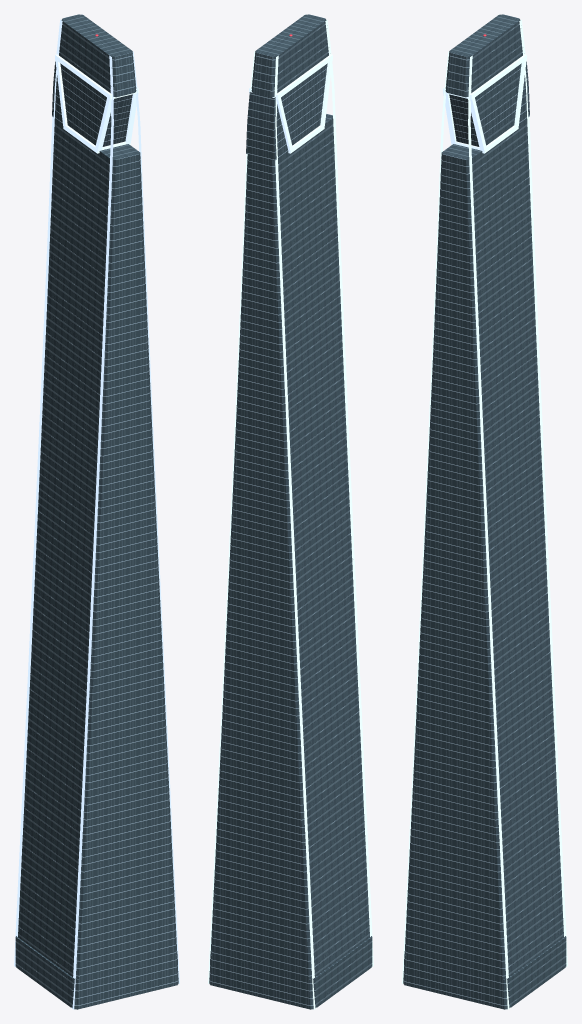
File: swfc.glb
The picture shows the model from 3 angles, left to right: view 1: azimuth 30°, elevation 25°; view 2: azimuth 150°, elevation 25°; view 3: azimuth 330°, elevation 25°; orthographic projection.
Visible parts, largest first — view 1: SWFC_Body, LED_SWFC_Edges; view 2: SWFC_Body, LED_SWFC_Edges; view 3: SWFC_Body, LED_SWFC_Edges.
Part boxes in pixels (box(x1,y1,x2,y2)): SWFC_Body: box(15, 14, 178, 1009); LED_SWFC_Edges: box(14, 14, 179, 1009); SWFC_Body: box(209, 14, 372, 1009); LED_SWFC_Edges: box(208, 14, 373, 1009); SWFC_Body: box(403, 14, 566, 1009); LED_SWFC_Edges: box(402, 14, 567, 1009).
Size of what is drawn, in the model's own units: 58.07 by 493 by 58.
4 materials, 2 textured.
